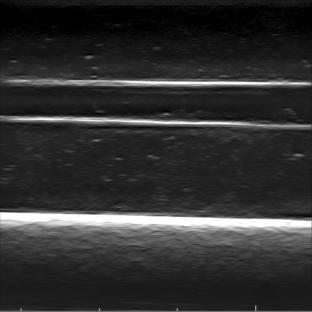vessel: (4, 78, 311, 128)
